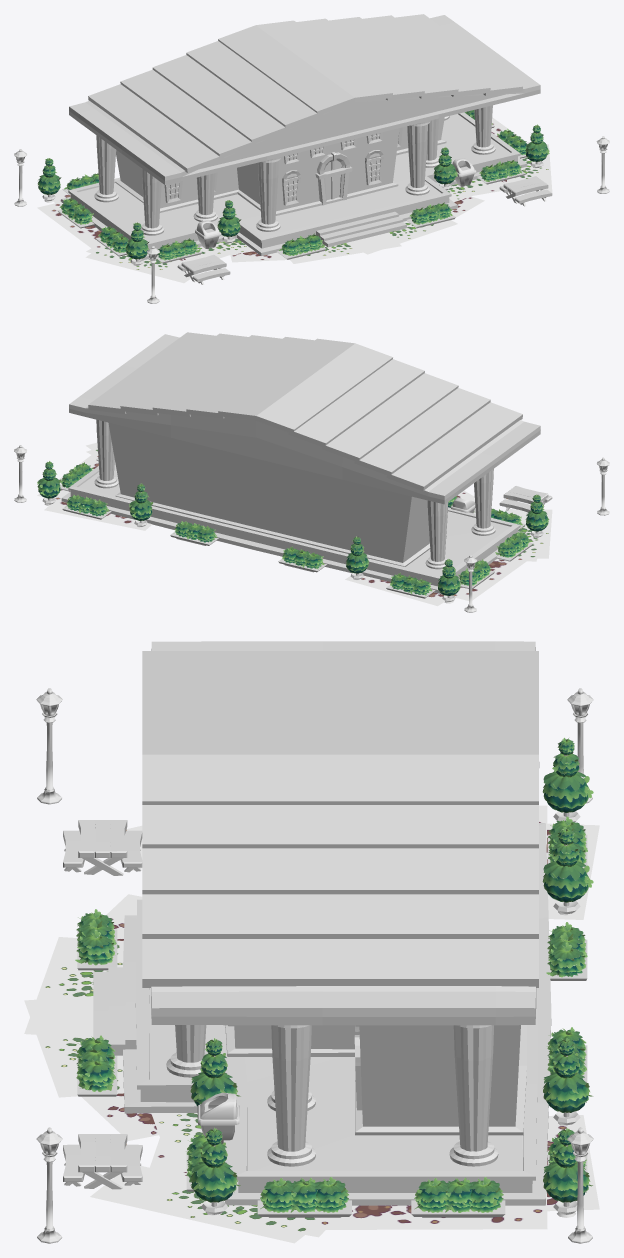
Rendered from museum.fbx.
3 renders of one model, top to bottom at view 1: azimuth 30°, elevation 25°; view 2: azimuth 150°, elevation 25°; view 3: azimuth 270°, elevation 25°, orthographic. The views are drawn at different scales.
Visible parts, largest first — view 1: Cube.020, TEX_DEKOR.006, Sphere.006, TEX_DEKOR.005, Cube.017, Cube.031, Cube.003, Cube.022, Cube.025, Cube.035, Cube.023, Cube.024; view 2: Cube.020, Sphere.006, TEX_DEKOR.005, Cube.041, Cube.031, Cube.035, Cube.025, TEX_DEKOR.006, Cube.017; view 3: Cube.020, TEX_DEKOR.006, Sphere.006, TEX_DEKOR.005, Cube.017, Cube.031, Cube.025, Cube.041, Cube.003, Cube.035, Cube.024.
Part boxes in pixels (box(x1,y1,x2,y2)): Cube.020: box(61, 14, 540, 260); TEX_DEKOR.006: box(85, 144, 552, 283); Sphere.006: box(37, 124, 549, 265); TEX_DEKOR.005: box(37, 117, 530, 262); Cube.017: box(177, 176, 552, 284); Cube.031: box(59, 110, 527, 253); Cube.003: box(279, 202, 452, 255); Cube.022: box(157, 160, 521, 260); Cube.025: box(14, 136, 609, 303); Cube.035: box(57, 124, 526, 263); Cube.023: box(195, 220, 221, 248); Cube.024: box(452, 158, 476, 186); Cube.020: box(61, 332, 540, 593); Sphere.006: box(37, 461, 549, 603); TEX_DEKOR.005: box(37, 450, 536, 606); Cube.041: box(65, 495, 432, 595); Cube.031: box(60, 462, 530, 585); Cube.035: box(60, 458, 533, 598); Cube.025: box(14, 445, 609, 612); TEX_DEKOR.006: box(86, 442, 552, 558); Cube.017: box(499, 486, 552, 515); Cube.020: box(93, 641, 551, 1205); TEX_DEKOR.006: box(24, 825, 326, 1243); Sphere.006: box(190, 737, 593, 1217); TEX_DEKOR.005: box(81, 805, 599, 1237); Cube.017: box(63, 820, 142, 1189); Cube.031: box(260, 1176, 503, 1212); Cube.025: box(36, 688, 593, 1243); Cube.041: box(546, 816, 587, 1170); Cube.003: box(75, 909, 116, 1092); Cube.035: box(77, 834, 587, 1217); Cube.024: box(197, 1092, 239, 1143).
Bounding box in the file's own units: 4569 × 1251 × 2457.
